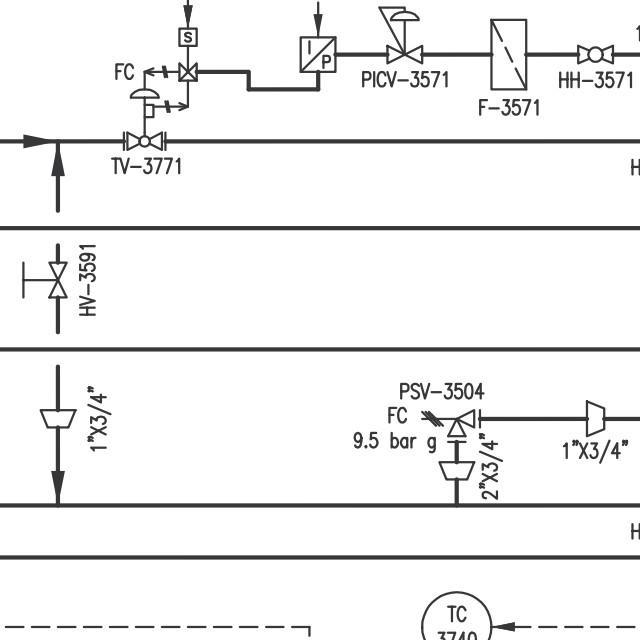BV2: (573, 40, 617, 64)
CBV: (119, 25, 200, 156)
EPA: (296, 27, 344, 77)
F2: (486, 15, 532, 94)
HVWT: (15, 255, 73, 304)
PCV: (373, 2, 431, 66)
RPV: (417, 403, 491, 447)
SP: (579, 395, 611, 438), (433, 457, 478, 482), (37, 405, 80, 431)
